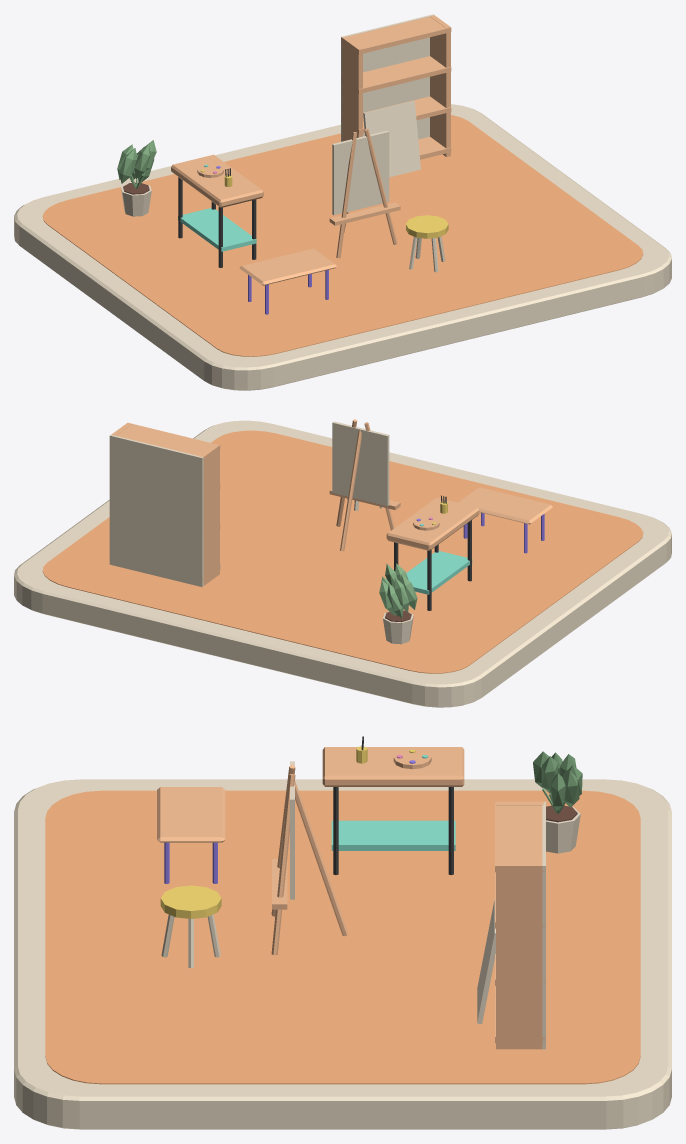
File: room.fbx
3 views of the same model, one above another, from view 1: azimuth 30°, elevation 25°; view 2: azimuth 150°, elevation 25°; view 3: azimuth 270°, elevation 25° (orthographic). The views are drawn at different scales.
Visible parts, largest first — view 1: COM-02 Floor Surface, COM-01 Rounded Base Direct, Canvas, Back, Blank canvas, Worktop, Pot, Side.003, Rounded table top, Shelf.003, Side.002, Shelf.002 (+6 smaller); view 2: COM-02 Floor Surface, COM-01 Rounded Base Direct, Back, Canvas, Worktop, Pot, Side.002, Rounded table top, Lower shelf, Shelf.003, Rear leg; view 3: COM-02 Floor Surface, COM-01 Rounded Base Direct, Side.003, Worktop, Rounded table top, Lower shelf, Pot, Shelf.003, Seat, Blank canvas, Side.001, Rear leg (+3 smaller).
Part boxes in pixels (bbox=[...]): COM-02 Floor Surface: bbox=[42, 115, 643, 356]; COM-01 Rounded Base Direct: bbox=[14, 104, 671, 390]; Canvas: bbox=[332, 130, 389, 215]; Back: bbox=[341, 14, 433, 141]; Blank canvas: bbox=[363, 101, 420, 177]; Worktop: bbox=[171, 154, 263, 207]; Pot: bbox=[117, 140, 156, 216]; Side.003: bbox=[430, 15, 450, 156]; Rounded table top: bbox=[239, 248, 337, 285]; Shelf.003: bbox=[341, 16, 451, 54]; Side.002: bbox=[342, 36, 362, 141]; Shelf.002: bbox=[341, 56, 451, 93]; COM-02 Floor Surface: bbox=[42, 430, 643, 673]; COM-01 Rounded Base Direct: bbox=[14, 420, 671, 707]; Back: bbox=[109, 435, 203, 586]; Canvas: bbox=[332, 421, 389, 506]; Worktop: bbox=[386, 497, 479, 550]; Pot: bbox=[379, 563, 417, 644]; Side.002: bbox=[199, 444, 219, 585]; Rounded table top: bbox=[458, 487, 552, 524]; Lower shelf: bbox=[406, 551, 472, 594]; Shelf.003: bbox=[116, 422, 220, 461]; Rear leg: bbox=[340, 430, 361, 551]; COM-02 Floor Surface: bbox=[45, 790, 640, 1084]; COM-01 Rounded Base Direct: bbox=[14, 779, 671, 1129]; Side.003: bbox=[496, 862, 543, 1049]; Worktop: bbox=[322, 747, 464, 786]; Rounded table top: bbox=[157, 787, 225, 842]; Lower shelf: bbox=[331, 820, 455, 850]; Pot: bbox=[533, 751, 582, 853]; Shelf.003: bbox=[495, 802, 544, 872]; Seat: bbox=[160, 885, 221, 918]; Blank canvas: bbox=[477, 898, 495, 1023]; Side.001: bbox=[271, 774, 295, 955]; Rear leg: bbox=[295, 781, 348, 936].
Bounding box in the file's own units: 600 × 190 × 520.
